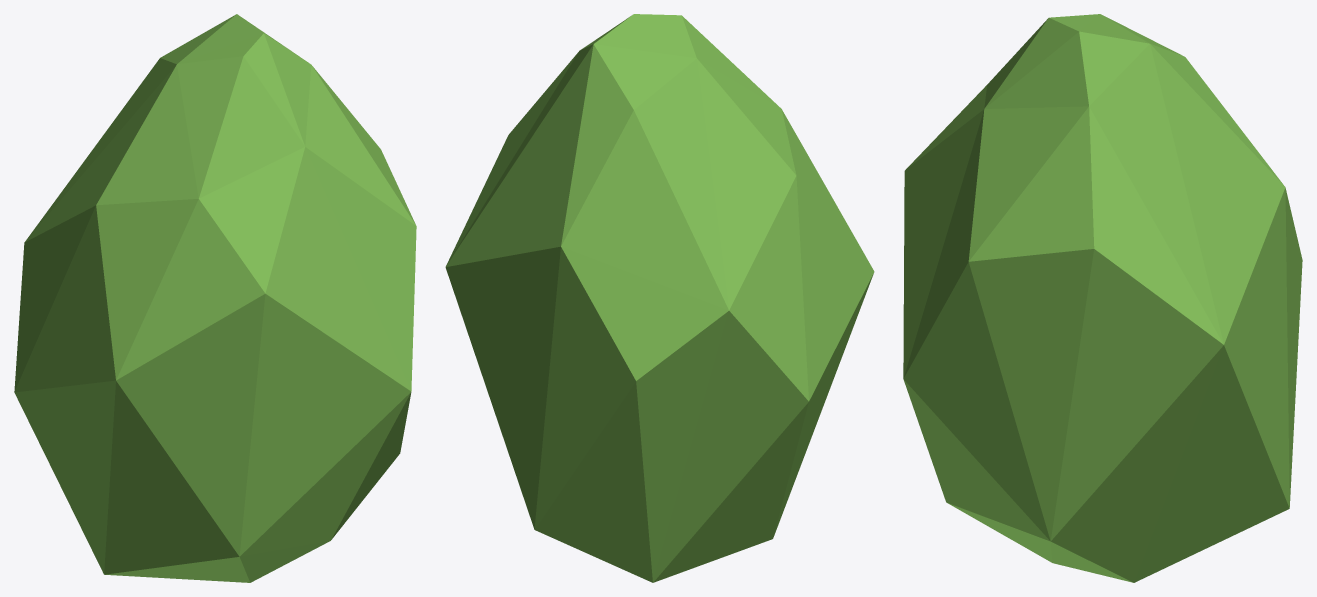
The model's file is Thuja_BushTree_s_04_LOD.fbx.
3 renders of one model, left to right at view 1: azimuth 30°, elevation 25°; view 2: azimuth 150°, elevation 25°; view 3: azimuth 270°, elevation 25°, orthographic. The views are drawn at different scales.
Visible parts, largest first — view 1: Thuja_BushTree_s_04_LOD0; view 2: Thuja_BushTree_s_04_LOD0; view 3: Thuja_BushTree_s_04_LOD0.
Boxes of the visible parts, x1,y1,x2,y2 form: Thuja_BushTree_s_04_LOD0: (14,14,416,582); Thuja_BushTree_s_04_LOD0: (445,14,874,582); Thuja_BushTree_s_04_LOD0: (903,14,1302,582).
Size of what is drawn, in the model's own units: 145 by 215 by 143.
